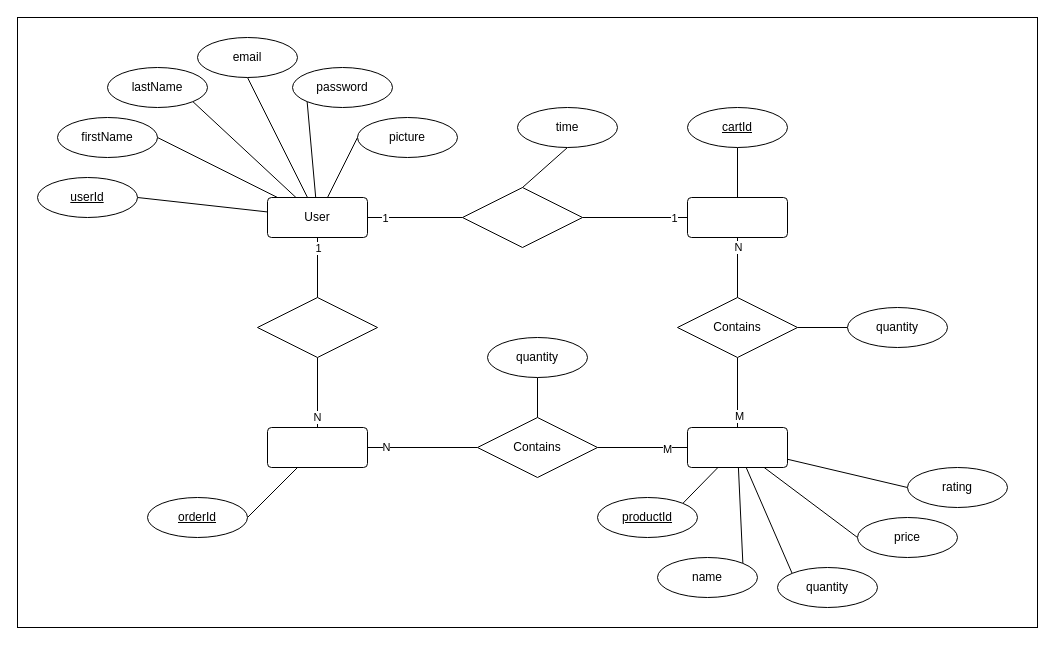
This 1055x645 diagram has some shape labels left out. Each missing label, with the centre of its shape:
Cart: the point at 737,217
Has: the point at 522,217
Order: the point at 317,447
Place: the point at 317,327
Product: the point at 737,447
